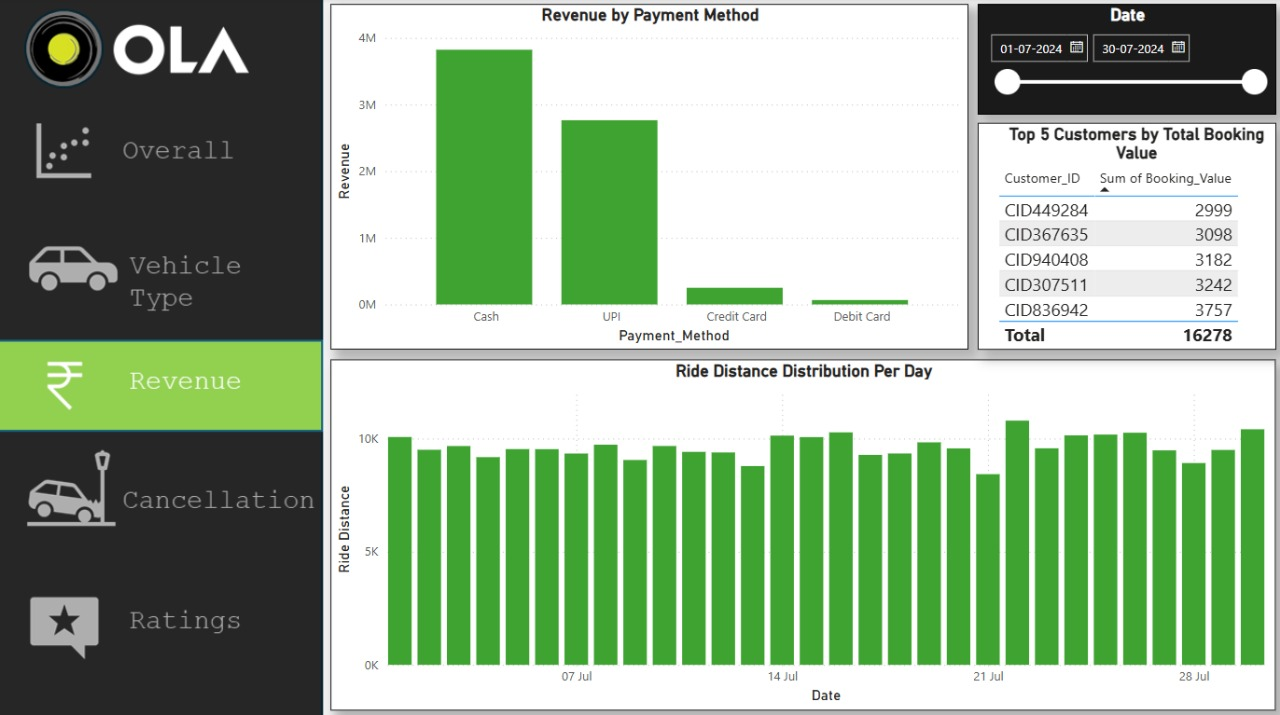

This screenshot's page, from the dashboard's own definition file:
{"tool":"powerbi","page":{"name":"Revenue ","canvas":[1280,720],"ordinal":2},"visuals":[{"type":"actionButton","box":[0,228,324.5,90.5],"z":0},{"type":"actionButton","box":[0,340.2,324.5,88.1],"z":1000},{"type":"actionButton","box":[1.2,446.4,324.5,90.5],"z":2000},{"type":"actionButton","box":[0,580.3,324.5,94.1],"z":3000},{"type":"actionButton","box":[0,111,324.5,90.5],"z":4000},{"type":"clusteredColumnChart","title":" Revenue by Payment Method","fields":{"Category":["July.Payment_Method"],"Y":["Sum(July.Booking_Value)"]},"box":[331.2,6.2,636.2,345],"z":5000},{"type":"slicer","title":"Date","fields":{"Values":["July.Date"]},"box":[976.2,6.2,297.5,110],"z":6000},{"type":"clusteredColumnChart","title":"Ride Distance Distribution Per Day","fields":{"Y":["Sum(July.Ride_Distance)"],"Category":["July.Date"]},"box":[331.2,360,942.5,350],"z":7000},{"type":"tableEx","title":"Top 5 Customers by Total Booking Value","fields":{"Values":["July.Customer_ID","Sum(July.Booking_Value)"]},"box":[976.2,125,297.5,226.2],"z":8000}]}

Visuals, with their boxes in screenshot pixels (x1, y1, x2, y2), scaled from the page's 1280x720 canvas onto the 1280x715 screenshot:
actionButton: [x1=0, y1=226, x2=324, y2=316]
actionButton: [x1=0, y1=338, x2=324, y2=425]
actionButton: [x1=1, y1=443, x2=326, y2=533]
actionButton: [x1=0, y1=576, x2=324, y2=670]
actionButton: [x1=0, y1=110, x2=324, y2=200]
" Revenue by Payment Method" clusteredColumnChart: [x1=331, y1=6, x2=967, y2=349]
"Date" slicer: [x1=976, y1=6, x2=1274, y2=115]
"Ride Distance Distribution Per Day" clusteredColumnChart: [x1=331, y1=358, x2=1274, y2=705]
"Top 5 Customers by Total Booking Value" tableEx: [x1=976, y1=124, x2=1274, y2=349]
